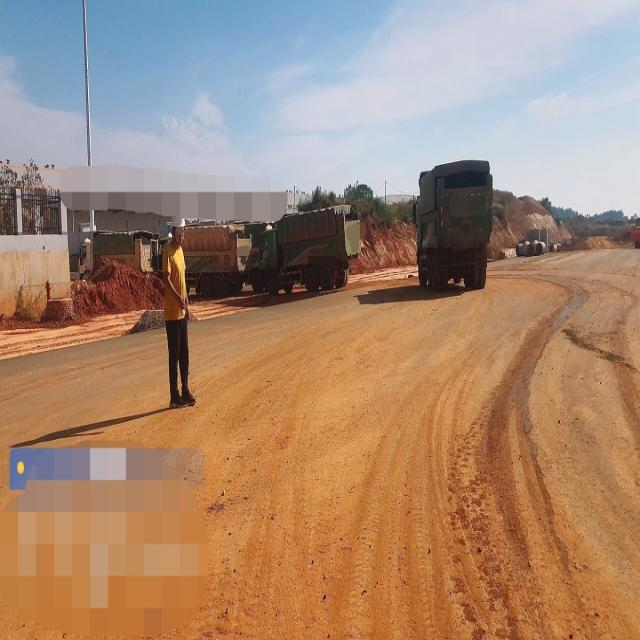excavator: (631, 216, 639, 248)
truck: (413, 159, 493, 292), (260, 204, 361, 296), (149, 223, 252, 298), (77, 229, 160, 280), (243, 221, 278, 294)
